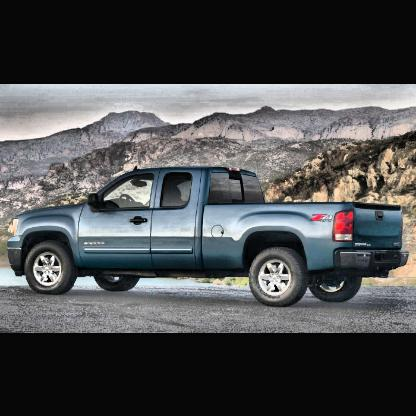Chevrolet Silverado 1500 Extended Cab 2012: (10, 162, 412, 309)
